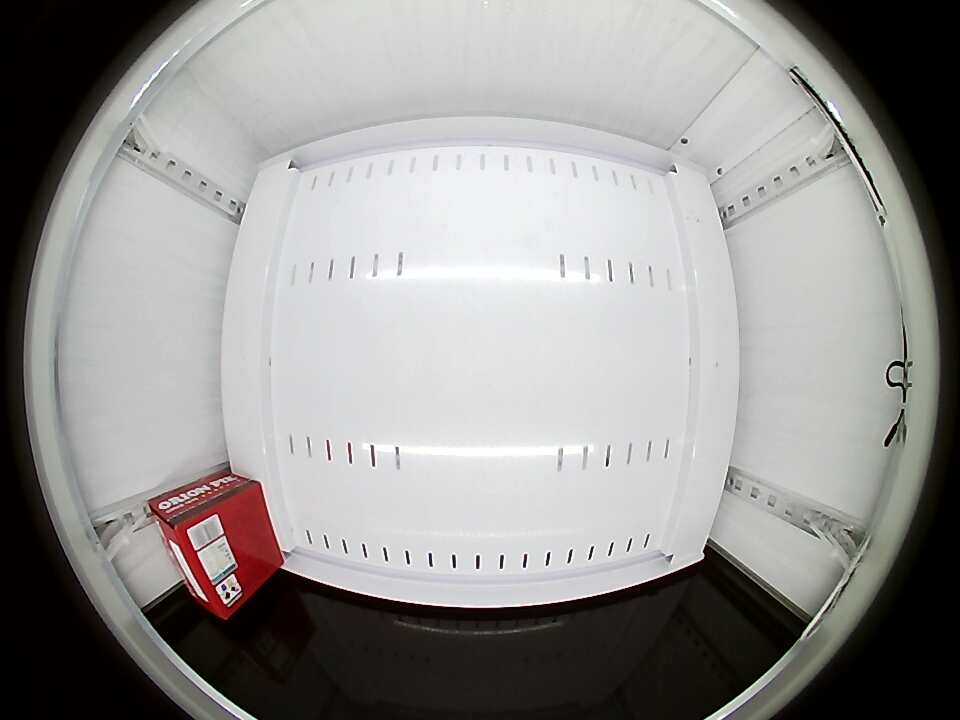haoliyou: (150, 489, 258, 619)
